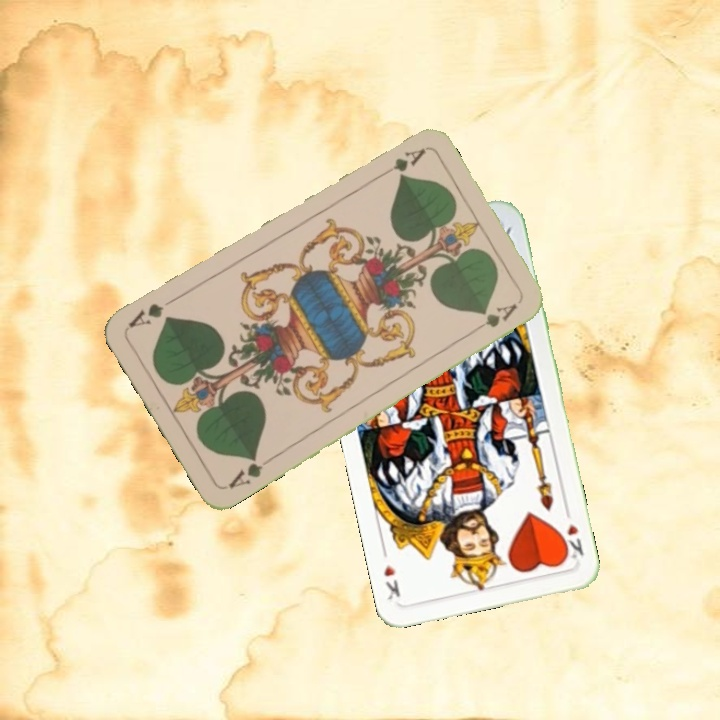GA: (224, 451, 276, 491), (374, 144, 428, 181)
HK: (557, 505, 586, 562)
